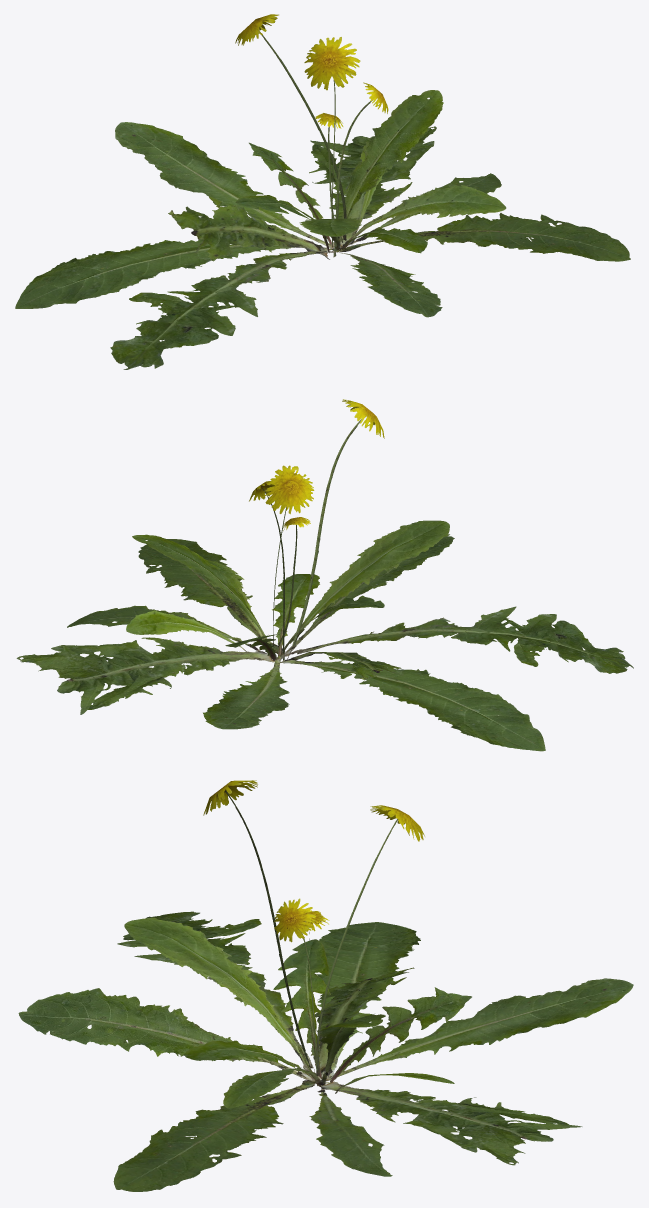
File: gv_bush.glb
The picture shows the model from 3 angles, top to bottom: view 1: azimuth 30°, elevation 25°; view 2: azimuth 150°, elevation 25°; view 3: azimuth 270°, elevation 25°; orthographic projection. The views are drawn at different scales.
Parts seen in each view (by area): view 1: 0_1_13.001; view 2: 0_1_13.001; view 3: 0_1_13.001.
Part boxes in pixels (x1,y1,x2,y2): 0_1_13.001: (15, 14, 630, 369); 0_1_13.001: (16, 399, 633, 751); 0_1_13.001: (18, 780, 633, 1191).
Bounding box in the file's own units: 0.9827 × 0.4621 × 0.9035.
Materials: 1 (1 with a texture image).
